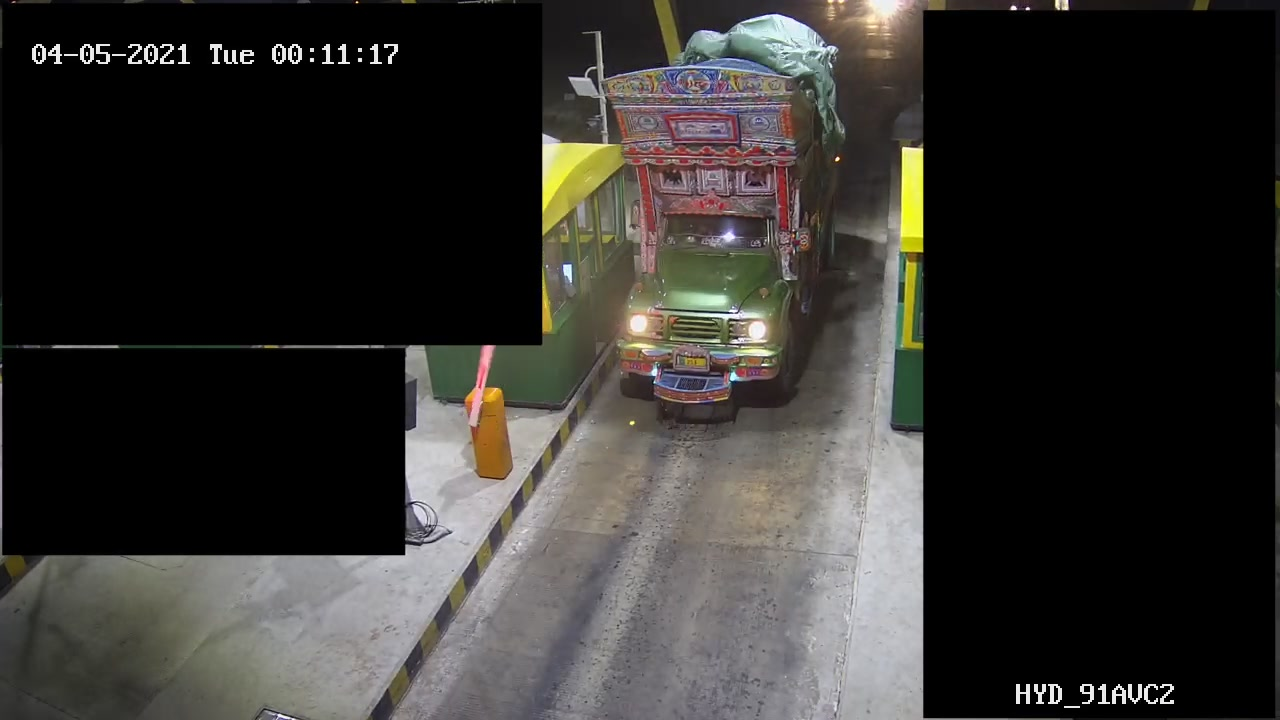F5: (592, 1, 873, 397)
